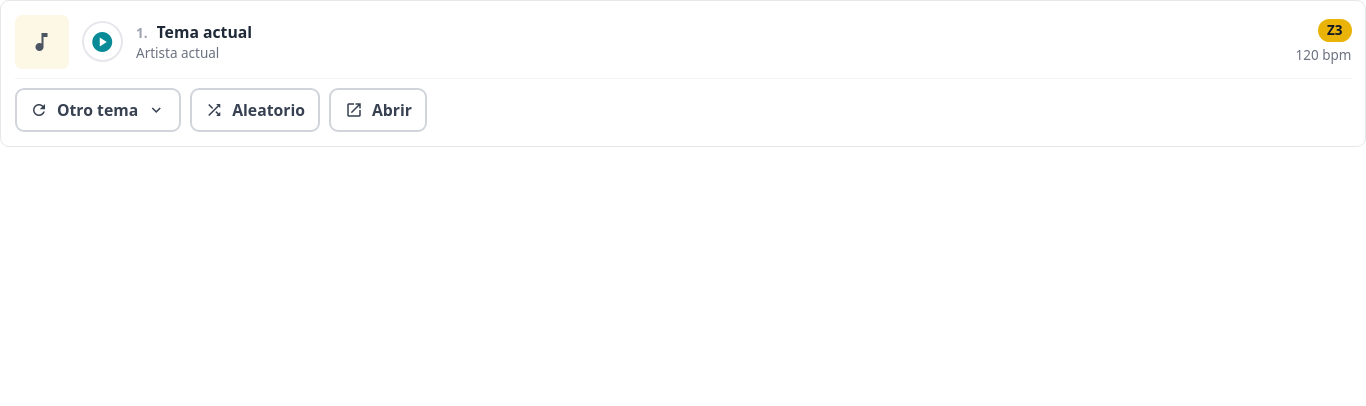
Test case: PlaylistTrackRow > AlternativesPicker > buscador › sin query, muestra todas las alternativas en el orden recibido
Click the button with aria-label "Cambiar tema del tramo".
click(98, 110)  # box [14,88,181,132]
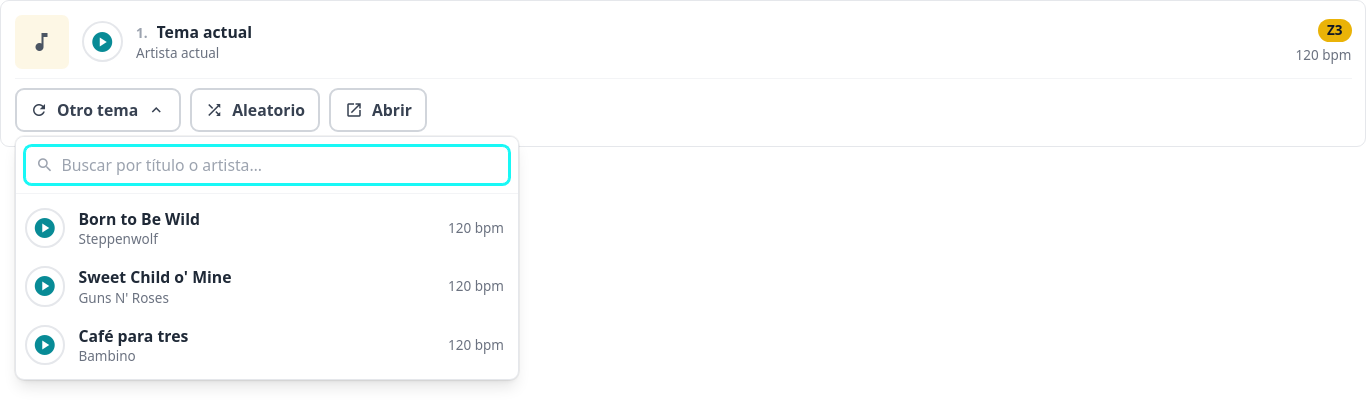
Check: the number of options is 3, box [74,198,508,257]; [74,257,508,316]; [74,316,508,374]
Check: the option "Born to Be Wild Steppenwolf 120 bpm" is shown, box [74,198,508,257]
Check: the option "Sweet Child o' Mine Guns N' Roses 120 bpm" is shown, box [74,257,508,316]
